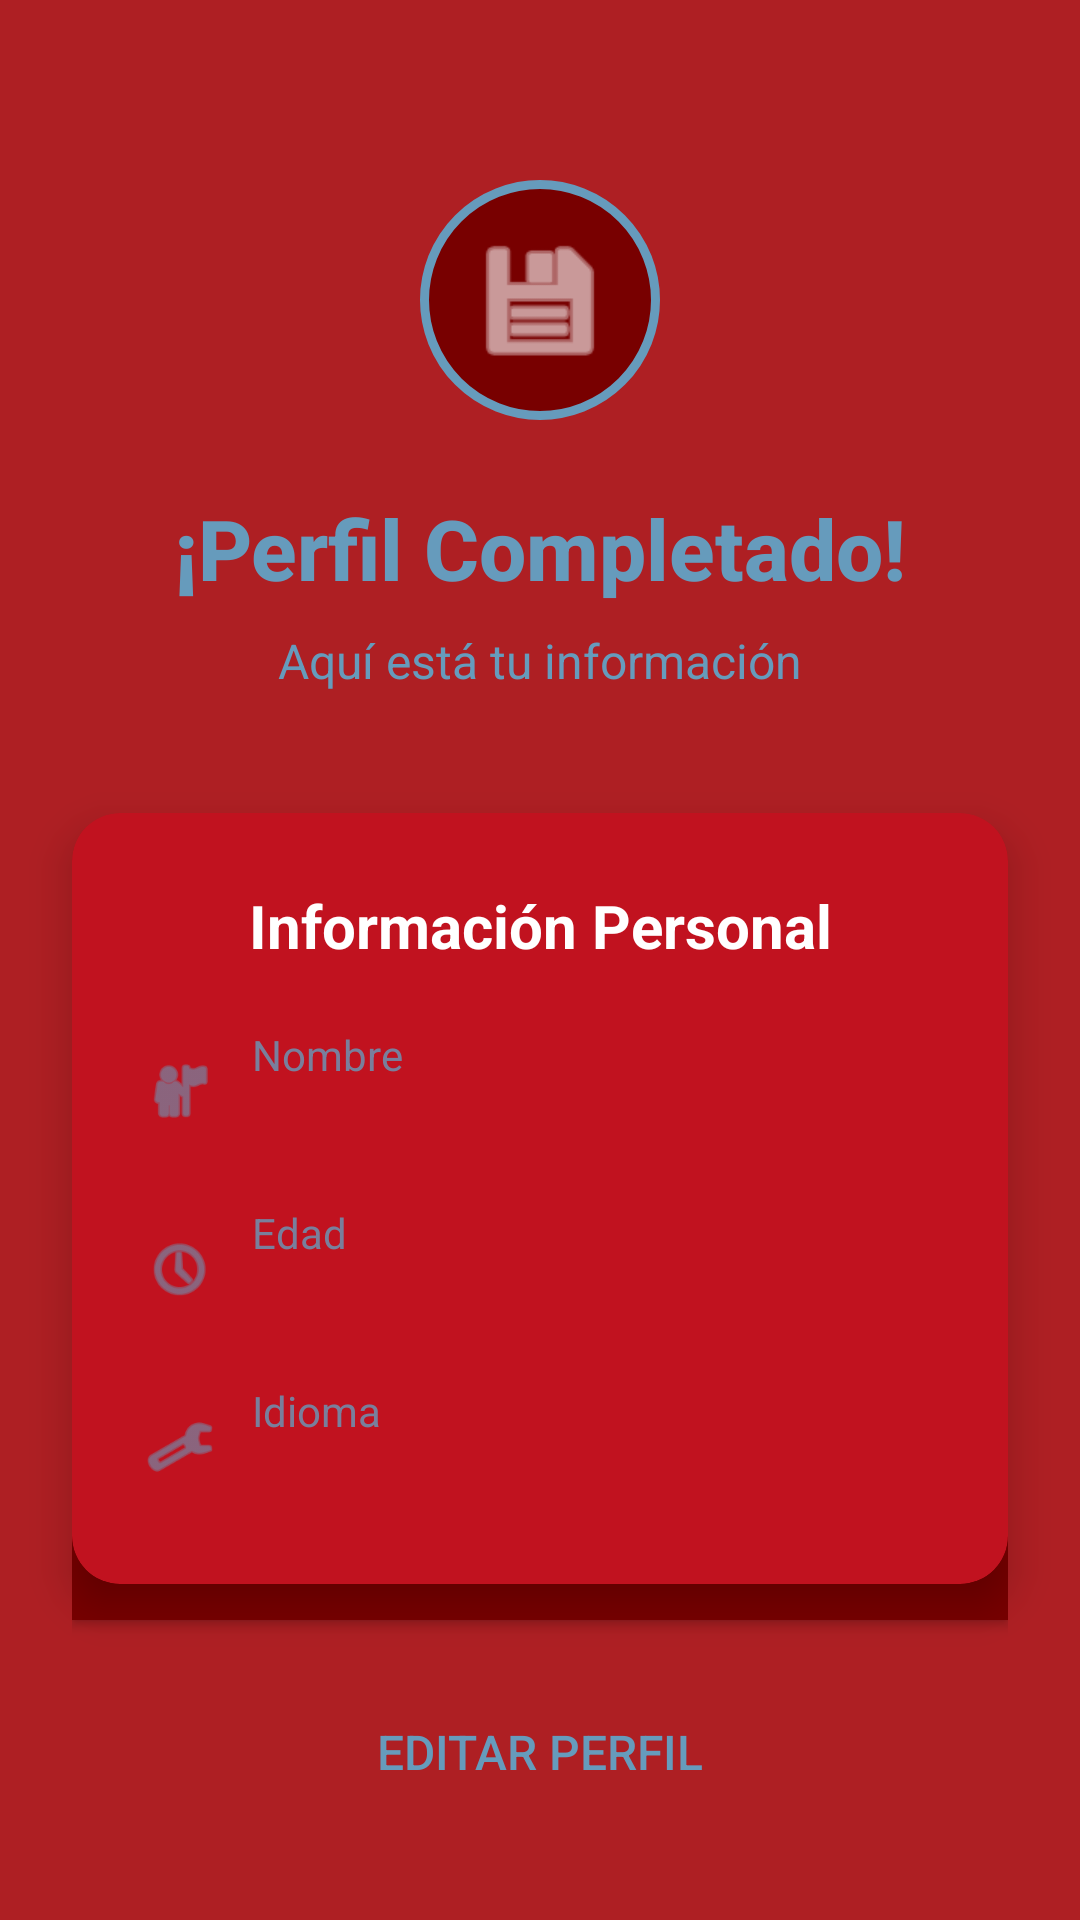

Named icons in this screenshot (1080w x 1920h) and their centers, (x,y):
preferences: (180,1447)
recent history: (180,1269)
save: (540,300)
